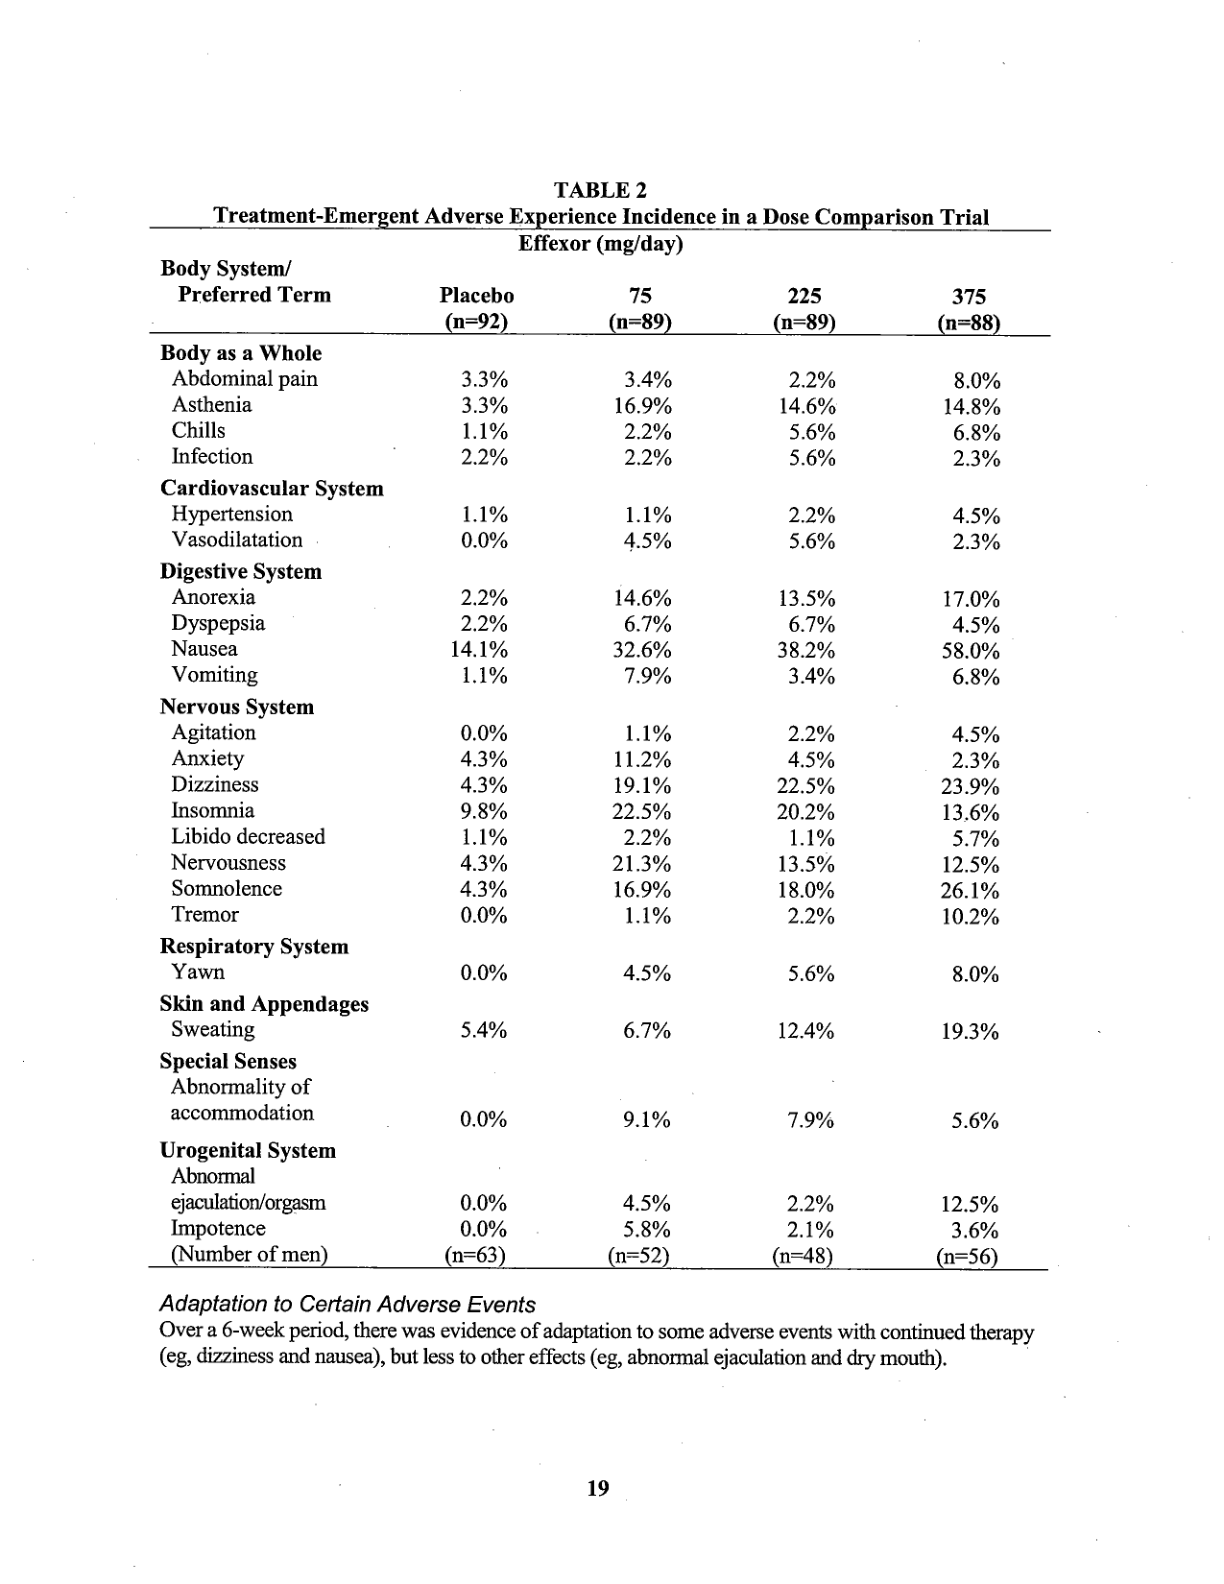partial_lined_merged_cells: (148, 224, 1056, 1270)
